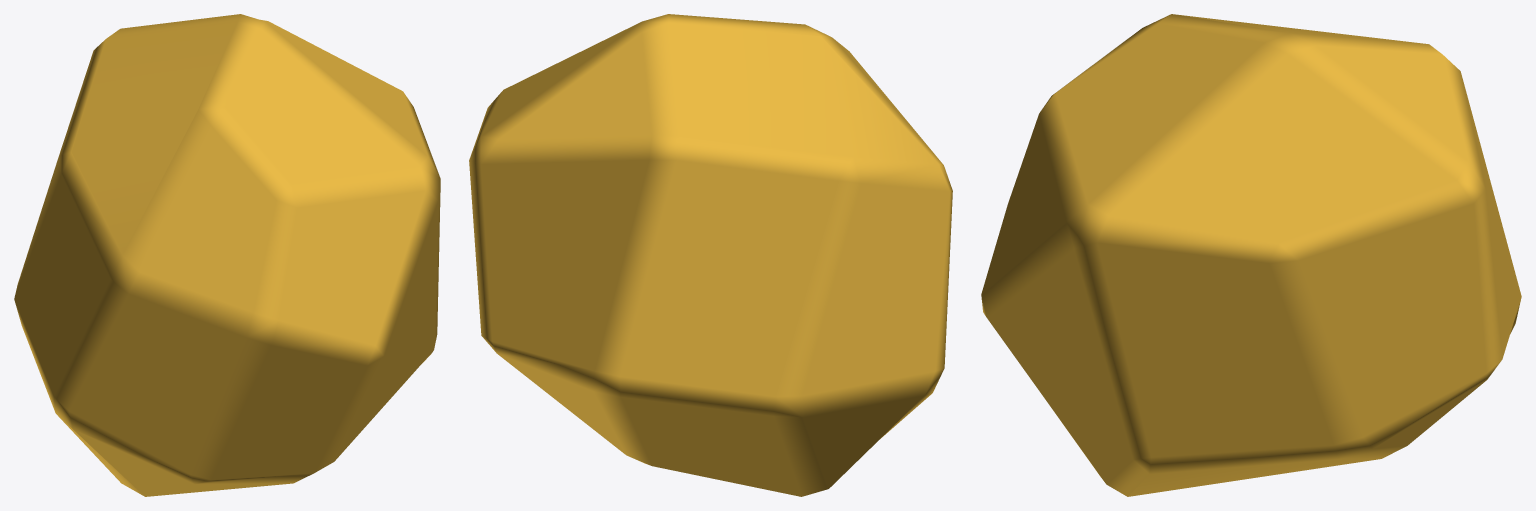
The model's file is ore1notex.fbx.
3 renders of one model, left to right at view 1: azimuth 30°, elevation 25°; view 2: azimuth 150°, elevation 25°; view 3: azimuth 270°, elevation 25°, orthographic. The views are drawn at different scales.
Visible parts, largest first — view 1: ore1notex; view 2: ore1notex; view 3: ore1notex.
Part boxes in pixels (<box>): ore1notex: <box>14,14,440,496</box>; ore1notex: <box>469,14,952,496</box>; ore1notex: <box>981,14,1521,496</box>.
Size of the model in its own units: 0.4167 by 0.4482 by 0.4432.
